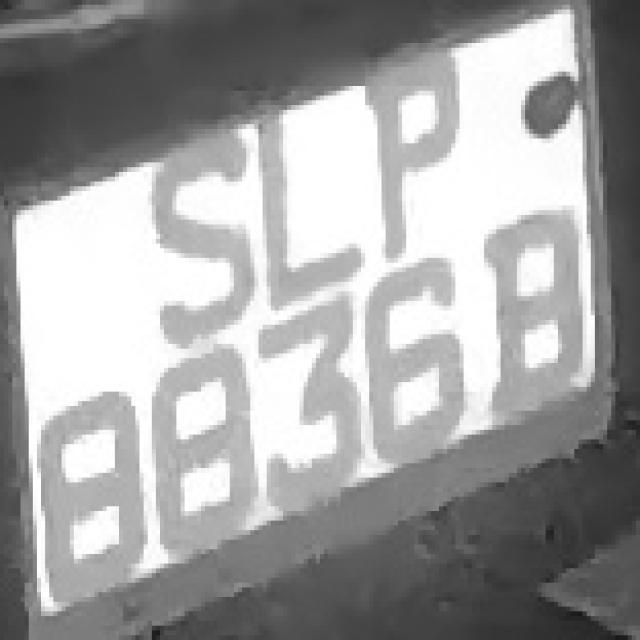3: (250, 287, 378, 511)
6: (361, 239, 472, 482)
8: (140, 334, 262, 568), (29, 377, 148, 607)
B: (476, 200, 599, 430)
L: (234, 86, 373, 296)
P: (344, 29, 464, 262)
S: (131, 110, 263, 353)
